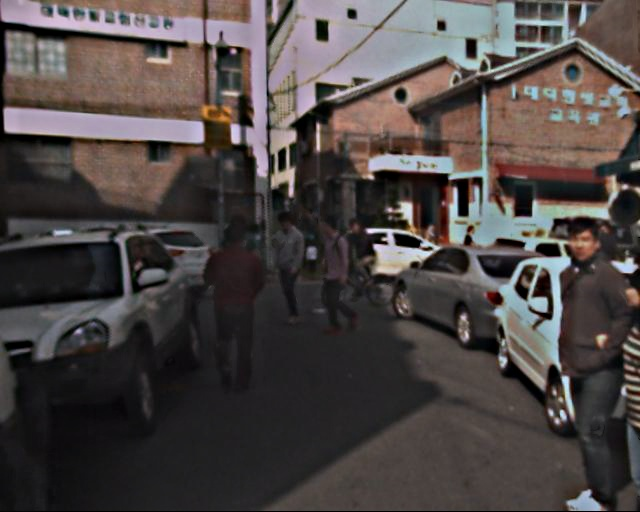person: (529, 216, 640, 509), (591, 272, 640, 503), (205, 225, 272, 389), (207, 212, 263, 349), (311, 217, 359, 334), (266, 213, 312, 325), (345, 217, 376, 293), (593, 221, 622, 291), (459, 224, 481, 277), (422, 222, 442, 271)
